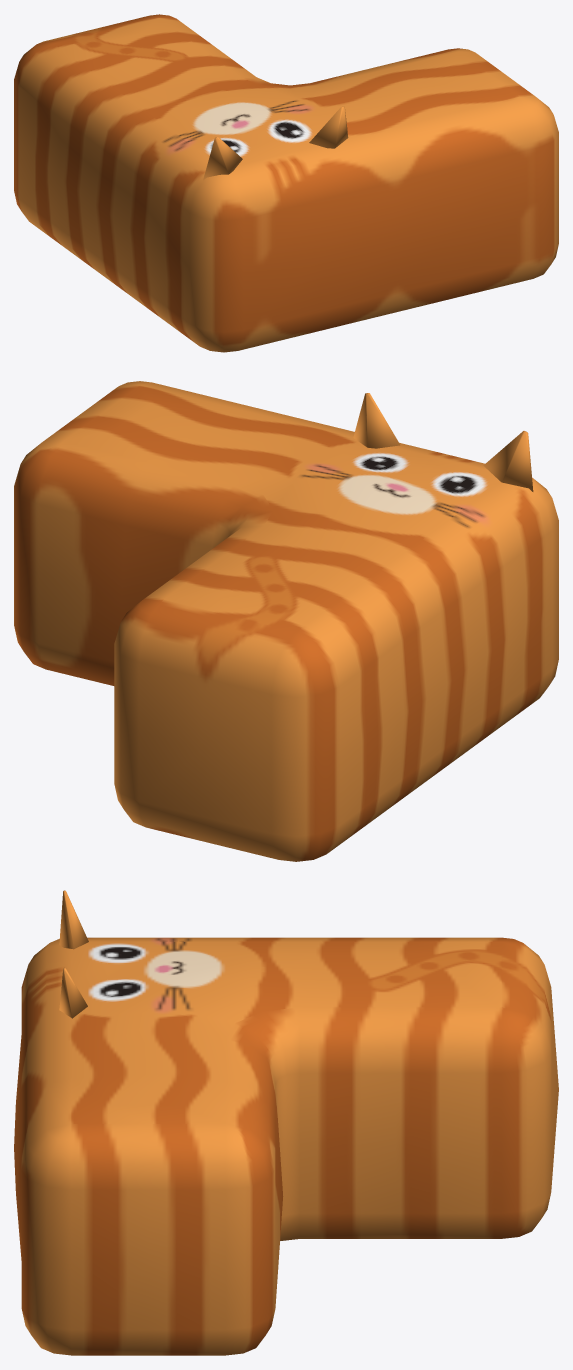
File: Cat_CornerMirror.fbx
3 renders of one model, top to bottom at view 1: azimuth 30°, elevation 25°; view 2: azimuth 150°, elevation 25°; view 3: azimuth 270°, elevation 25°, orthographic. The views are drawn at different scales.
Parts seen in each view (by area): view 1: Cat_CornerMirror; view 2: Cat_CornerMirror; view 3: Cat_CornerMirror.
Part boxes in pixels (x1,y1,x2,y2): Cat_CornerMirror: (14, 14, 558, 352); Cat_CornerMirror: (14, 381, 558, 861); Cat_CornerMirror: (14, 890, 558, 1355).
Bounding box in the file's own units: 1.98 × 1.05 × 1.98.
1 material, 1 textured.
